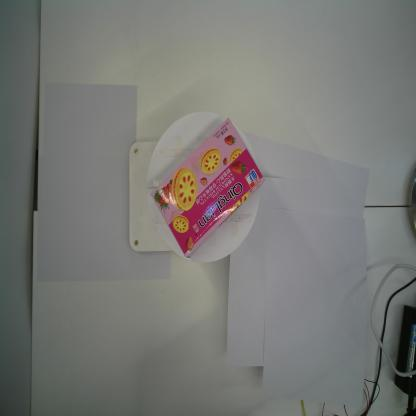Dessert: (150, 116, 265, 258)
